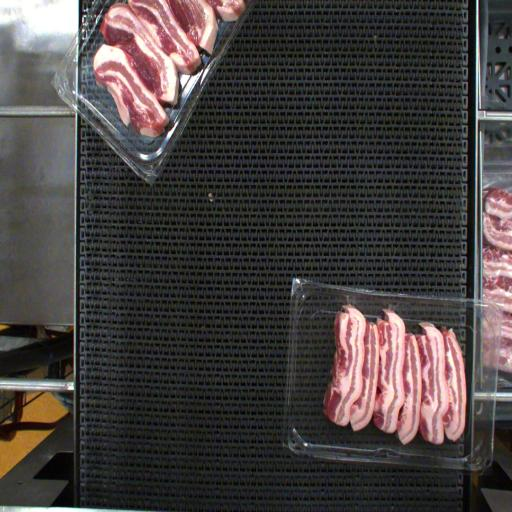packaging-error: (387, 302, 405, 315), (344, 292, 356, 308)
